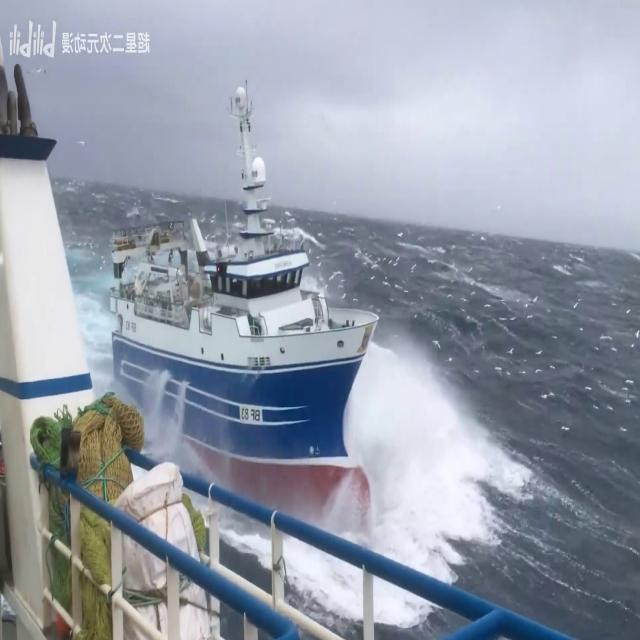houseboat: (113, 91, 377, 497)
